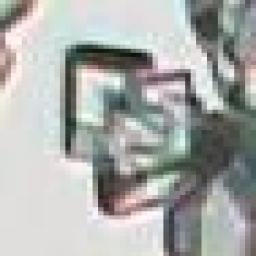crystals: (54, 39, 231, 221)
